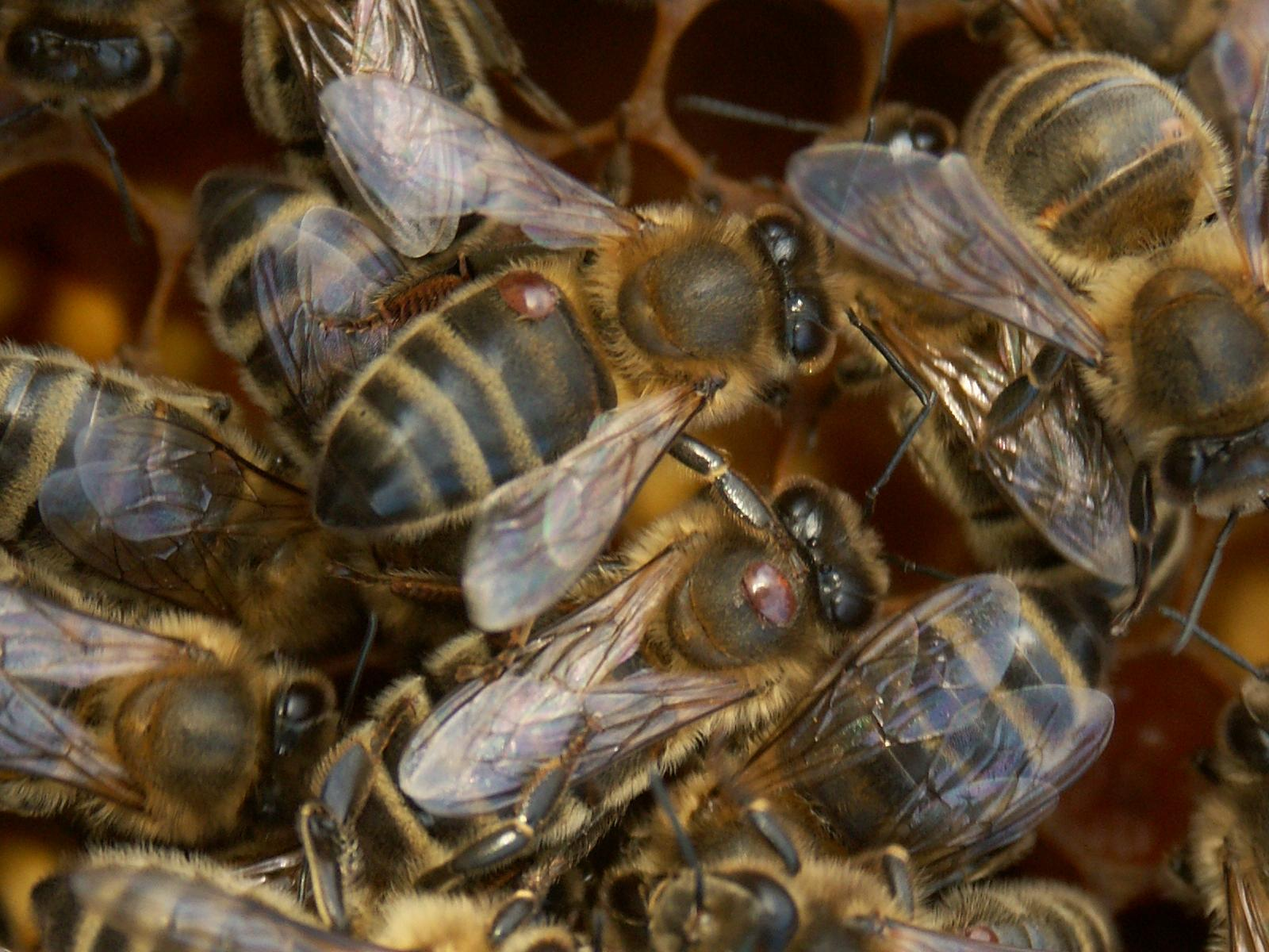worker-bee: (309, 472, 888, 897), (312, 206, 830, 538), (958, 52, 1268, 517), (738, 574, 1112, 889), (0, 345, 356, 646), (0, 552, 337, 846), (194, 171, 464, 465)
